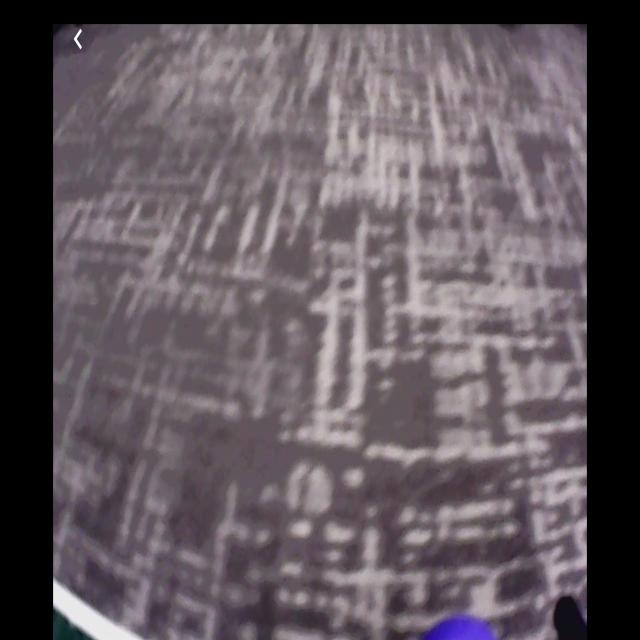ball: (422, 616, 499, 640)
